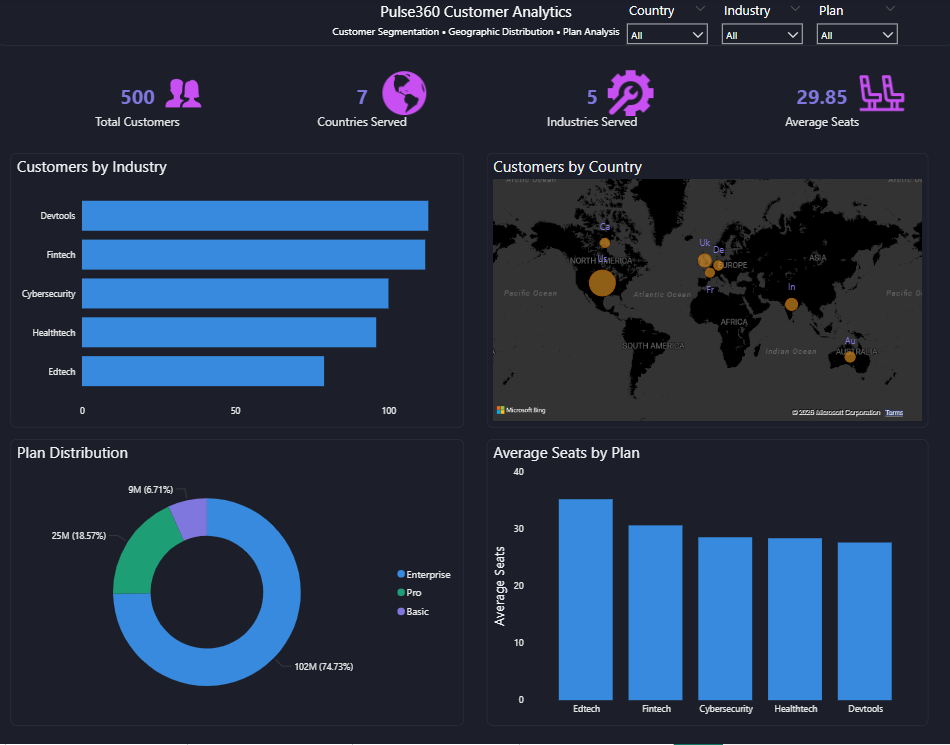

The page's visual inventory and layout, read from the dashboard file:
{"tool":"powerbi","page":{"name":"Customer Analytics","canvas":[1280,1000],"ordinal":1},"visuals":[{"type":"shape","title":"Pulse360 Customer Analytics","box":[0,0,1280,64],"z":0},{"type":"card","fields":{"Values":["KPI.Total Customers"]},"box":[64,96,247.1,96],"z":0,"group":"g1"},{"type":"clusteredBarChart","title":"Customers by Industry","fields":{"Category":["vw_customer360.Industry"],"Y":["KPI.Total Customers"]},"box":[16,208,608,368],"z":1000},{"type":"map","title":"Customers by Country","fields":{"Category":["vw_customer360.country"],"Size":["KPI.Total Customers"]},"box":[656,208,592,368],"z":2000},{"type":"card","fields":{"Values":["KPI.Countries Served"]},"box":[361.6,96,252.7,96],"z":3000,"group":"g1"},{"type":"donutChart","title":"Plan Distribution","fields":{"Category":["vw_customer360.plan_tier"],"Y":["KPI.Total ARR"]},"box":[16,592,608,384],"z":3000},{"type":"card","fields":{"Values":["KPI.Industries Served"]},"box":[670.5,96,252.7,96],"z":4000,"group":"g1"},{"type":"clusteredColumnChart","title":"Average Seats by Plan","fields":{"Category":["vw_customer360.industry"],"Y":["KPI.Average Seats"]},"box":[656,592,592,384],"z":4000},{"type":"group","id":"g1","title":"Group 1","box":[64,96,1168,96],"z":5000},{"type":"card","fields":{"Values":["KPI.Average Seats"]},"box":[979.3,96,252.7,96],"z":5000,"group":"g1"},{"type":"slicer","fields":{"Values":["vw_customer360.country"]},"box":[832,0,128,64],"z":6000},{"type":"slicer","fields":{"Values":["vw_customer360.industry"]},"box":[960,0,128,64],"z":7000},{"type":"slicer","fields":{"Values":["vw_customer360.plan_tier"]},"box":[1088,0,128,64],"z":8000},{"type":"image","box":[224,96,48,64],"z":9000},{"type":"image","box":[512,96,64,64],"z":10000},{"type":"image","box":[816,96,64,64],"z":10001},{"type":"image","box":[1152,96,64,64],"z":10002}]}

Visuals, with their boxes in screenshot pixels (x1, y1, x2, y2), scaled from the page's 1280x1000 canvas onto the 950x745 screenshot:
"Pulse360 Customer Analytics" shape: (0, 0, 949, 48)
card - KPI.Total Customers: (48, 72, 231, 143)
"Customers by Industry" clusteredBarChart: (12, 155, 463, 429)
"Customers by Country" map: (487, 155, 926, 429)
card - KPI.Countries Served: (268, 72, 456, 143)
"Plan Distribution" donutChart: (12, 441, 463, 727)
card - KPI.Industries Served: (498, 72, 685, 143)
"Average Seats by Plan" clusteredColumnChart: (487, 441, 926, 727)
"Group 1" group: (48, 72, 914, 143)
card - KPI.Average Seats: (727, 72, 914, 143)
slicer - vw_customer360.country: (618, 0, 712, 48)
slicer - vw_customer360.industry: (712, 0, 808, 48)
slicer - vw_customer360.plan_tier: (808, 0, 902, 48)
image: (166, 72, 202, 119)
image: (380, 72, 428, 119)
image: (606, 72, 653, 119)
image: (855, 72, 902, 119)
